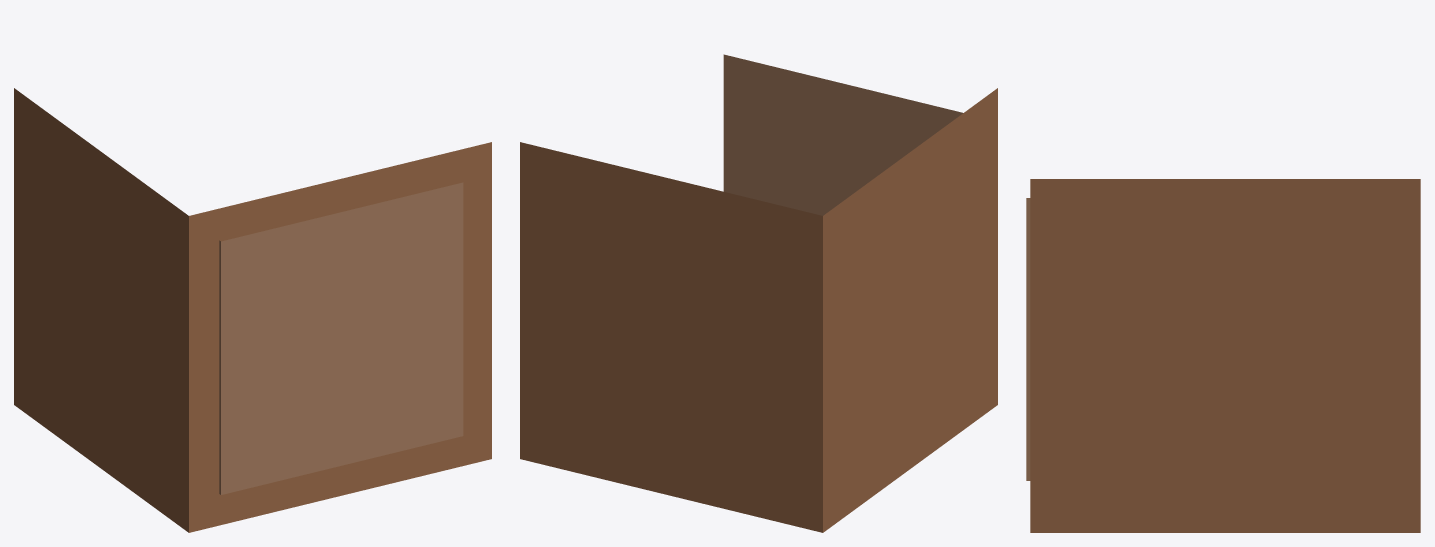
Rendered from Wall-teak.glb.
The picture shows the model from 3 angles, left to right: view 1: azimuth 30°, elevation 25°; view 2: azimuth 150°, elevation 25°; view 3: azimuth 270°, elevation 25°; orthographic projection. The views are drawn at different scales.
Visible parts, largest first — view 1: Wall; view 2: Wall; view 3: Wall.
Boxes of the visible parts, x1,y1,x2,y2 form: Wall: [14, 88, 491, 532]; Wall: [520, 54, 997, 532]; Wall: [1026, 179, 1420, 532].
Size of the model in its own units: 1 by 1 by 1.01.
